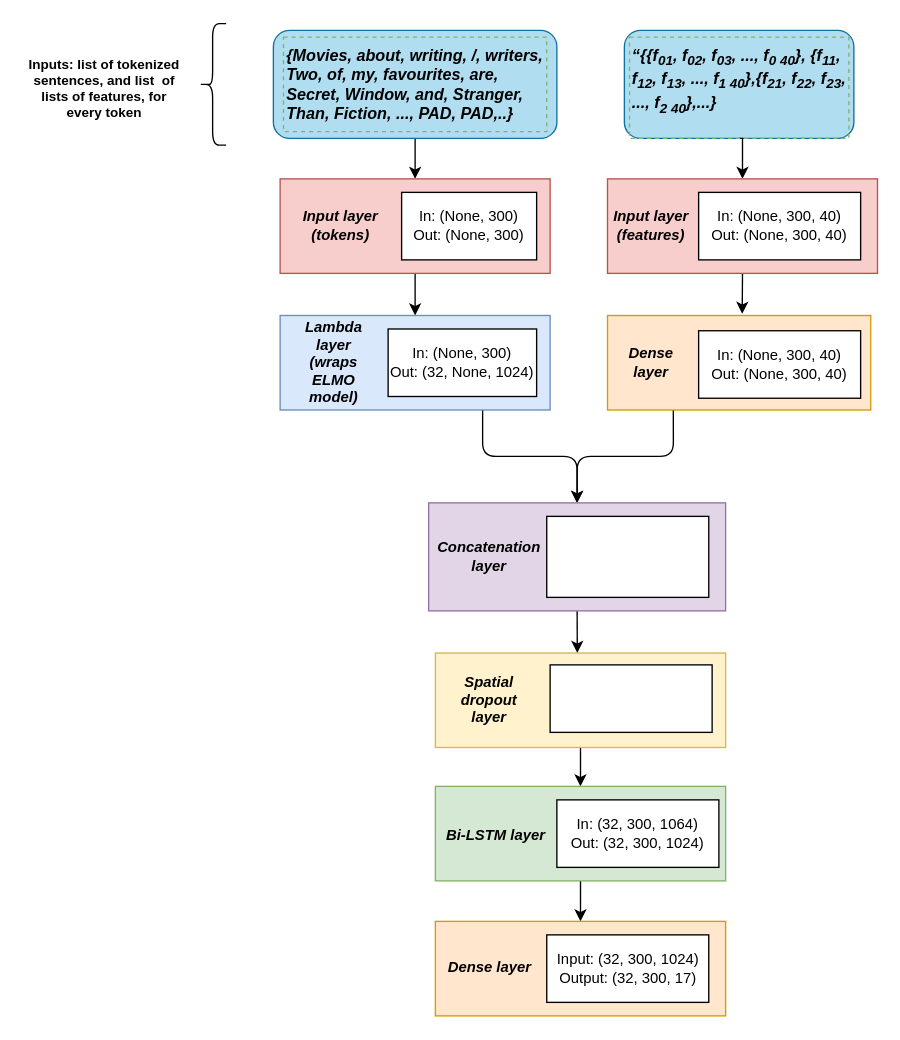
Image size: 900x1040. Some labels were removed from this diagram. Each missing label, with the centre of its shape:
"In: (32, 300, 1064) Out: (32, 300, 1064)" belongs at pixel 630 698.
"In: [(32, None, 1024), (None, 300, 40)] Out: (32, 300, 1064)" belongs at pixel 627 556.
